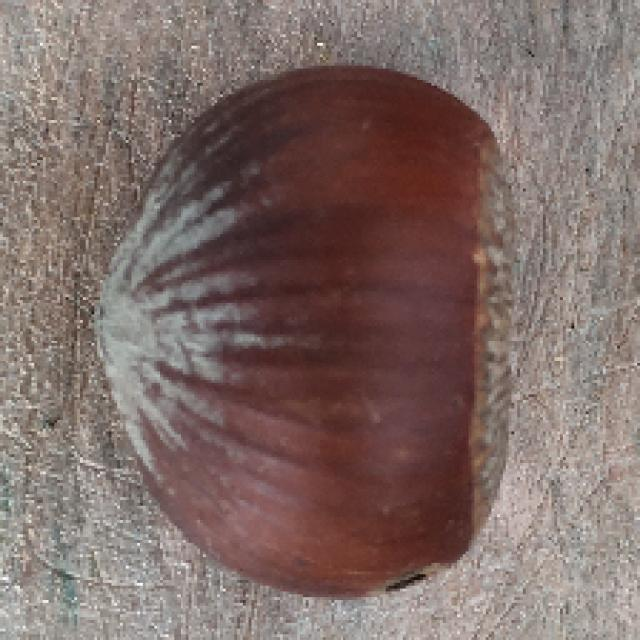damagedHazelnut: (98, 59, 540, 614)
